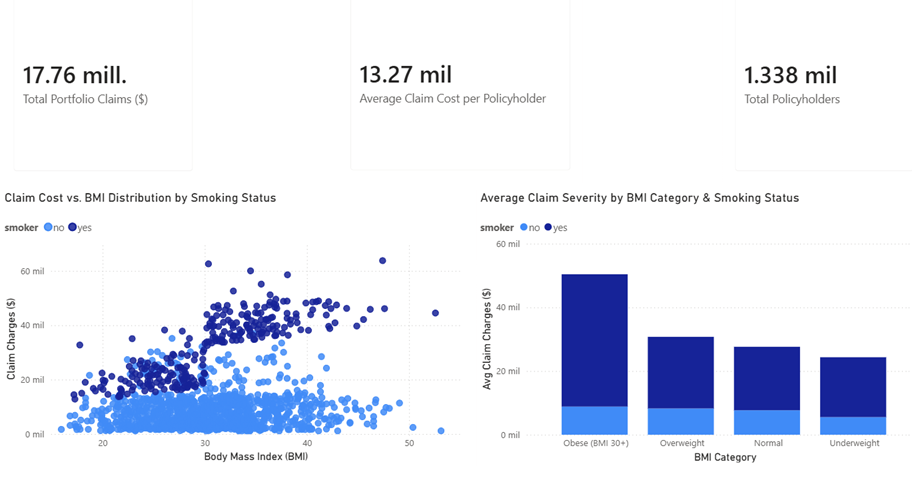

Layout of this report page (visuals, bound fields, positions):
{"tool":"powerbi","page":{"name":"Executive Overview","canvas":[1280,720],"ordinal":0},"visuals":[{"type":"cardVisual","fields":{"Data":["insurance.Total Claims"]},"box":[10,0,280,280],"z":0},{"type":"cardVisual","fields":{"Data":["insurance.Average Claim Cost"]},"box":[471.8,0,336,279.8],"z":1000},{"type":"cardVisual","fields":{"Data":["CountNonNull(insurance.age)"]},"box":[999.8,0,280,280],"z":2000},{"type":"scatterChart","title":"Claim Cost vs. BMI Distribution by Smoking Status","fields":{"X":["insurance.bmi"],"Y":["insurance.charges"],"Series":["insurance.smoker"]},"box":[9.6,289.4,641.8,378.5],"z":3000},{"type":"columnChart","title":"Average Claim Severity by BMI Category & Smoking Status","fields":{"Category":["insurance.bmi_category"],"Y":["insurance.Average Claim Cost"],"Series":["insurance.smoker"]},"box":[662,289,618,379],"z":4000}]}

Visuals, with their boxes on the page's 1280x720 design canvas (x1, y1, x2, y2). These are canvas units, not pixel positions in the 912x482 screenshot, which may show the page scaled, cropped or inside an application window:
cardVisual - insurance.Total Claims: (10,0,290,280)
cardVisual - insurance.Average Claim Cost: (472,0,808,280)
cardVisual - CountNonNull(insurance.age): (1000,0,1280,280)
"Claim Cost vs. BMI Distribution by Smoking Status" scatterChart: (10,289,651,668)
"Average Claim Severity by BMI Category & Smoking Status" columnChart: (662,289,1280,668)
